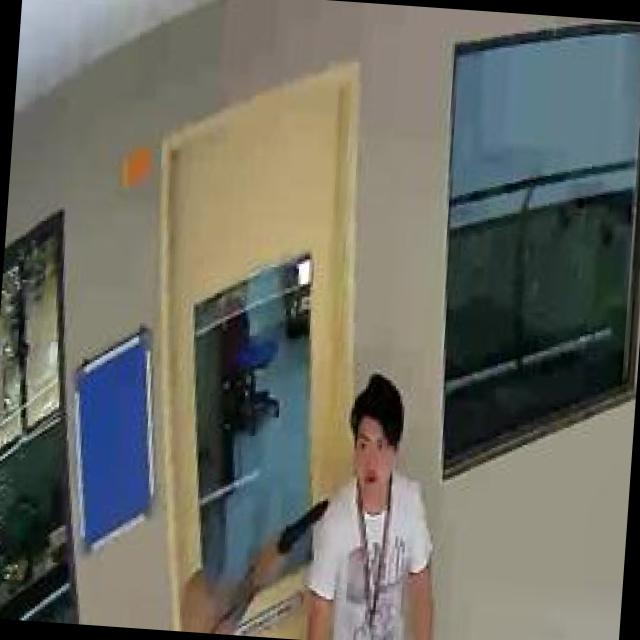Guns: (242, 476, 337, 597)
